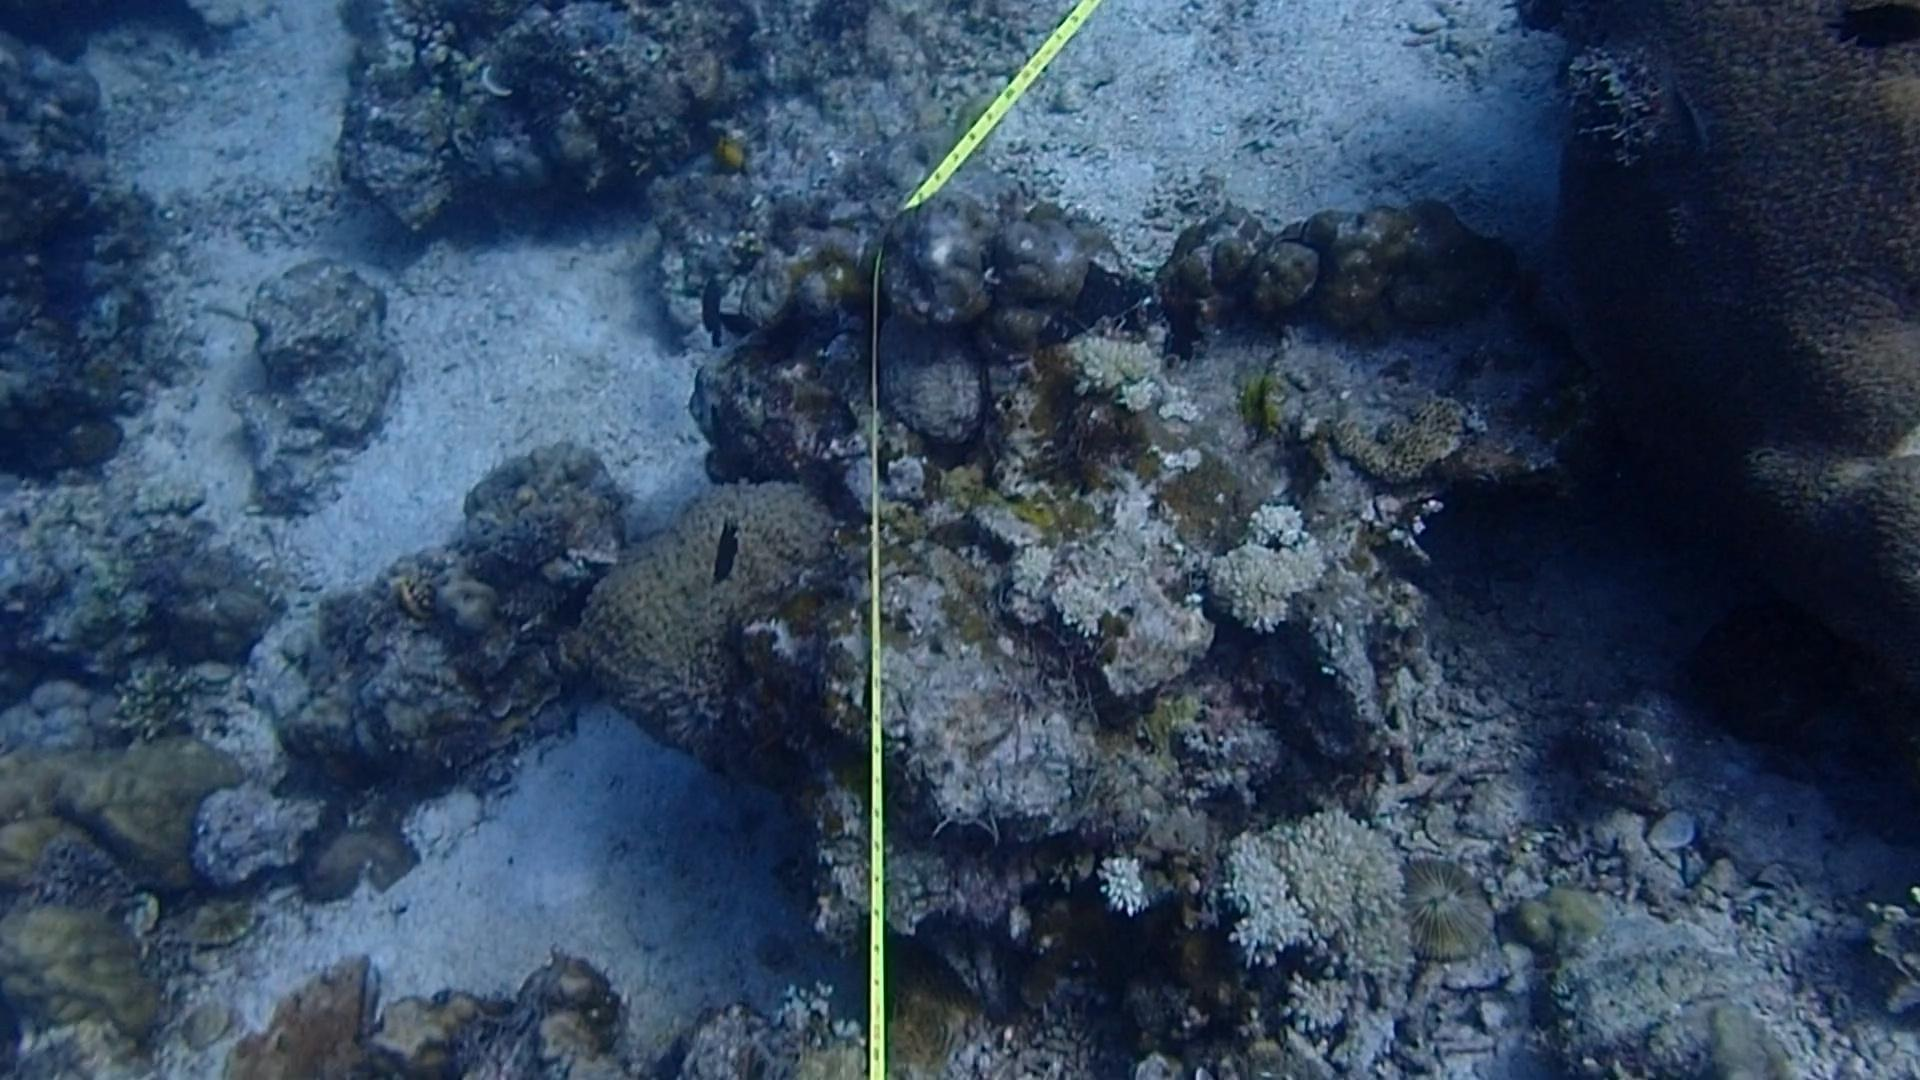Dark Fish: (531, 566, 603, 655), (700, 501, 757, 591), (694, 284, 756, 344), (692, 272, 732, 353)
